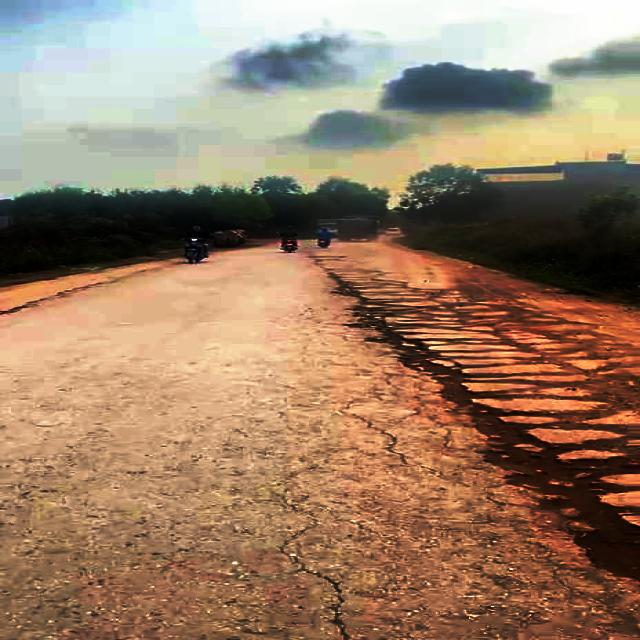pothole: (473, 445, 640, 578), (394, 346, 548, 452), (346, 302, 429, 356)
